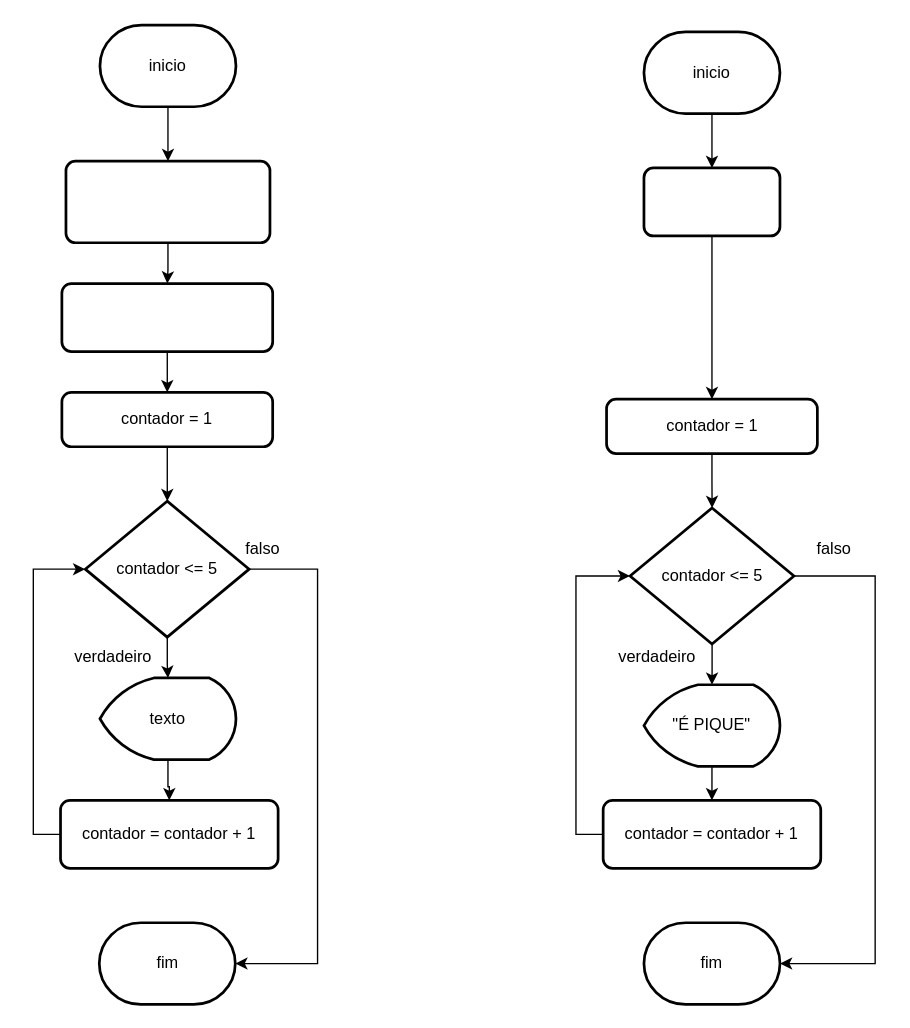
Image size: 910x1028. Some labels were removed from this diagram. The shapes that lost their labels are listed below. From the top down, each one's box as (x1, y1, x2, y2) in pixels, then its label:
(64, 159, 271, 243): cadeia texto inteiro contador
(642, 166, 781, 237): inteiro contador
(60, 282, 273, 352): texto = "É PIQUE"
